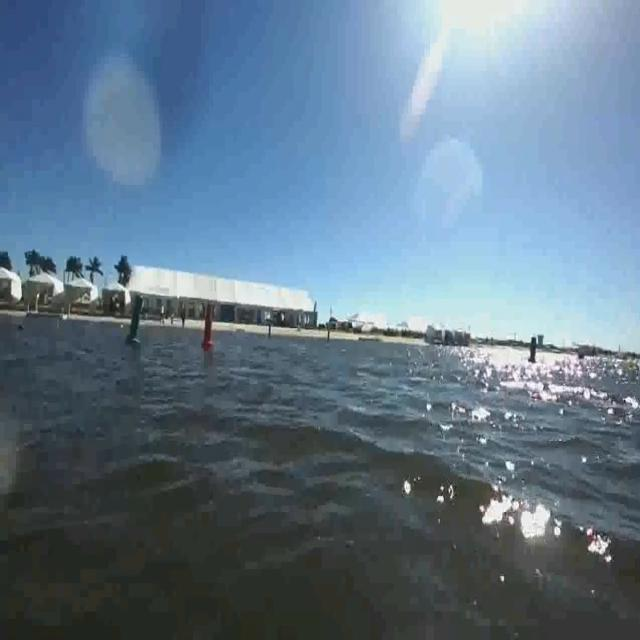green-column-buoy: (127, 294, 146, 347)
red-column-buoy: (202, 307, 216, 352)
